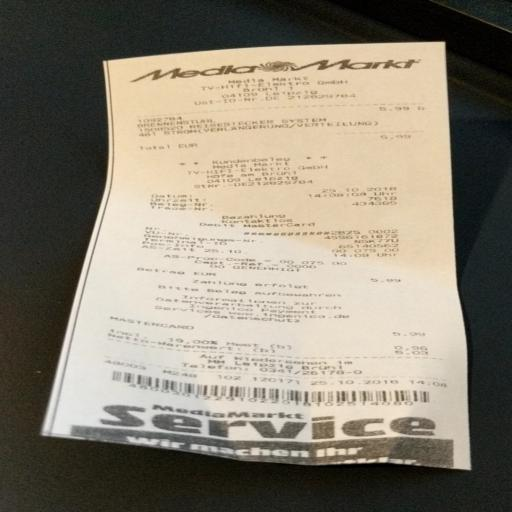paper: (35, 21, 512, 512)
